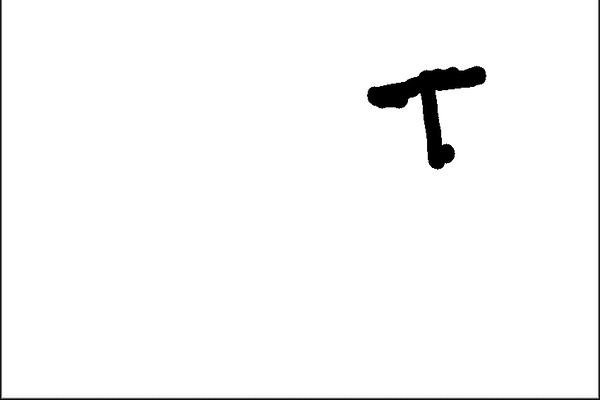T: (356, 50, 505, 171)
